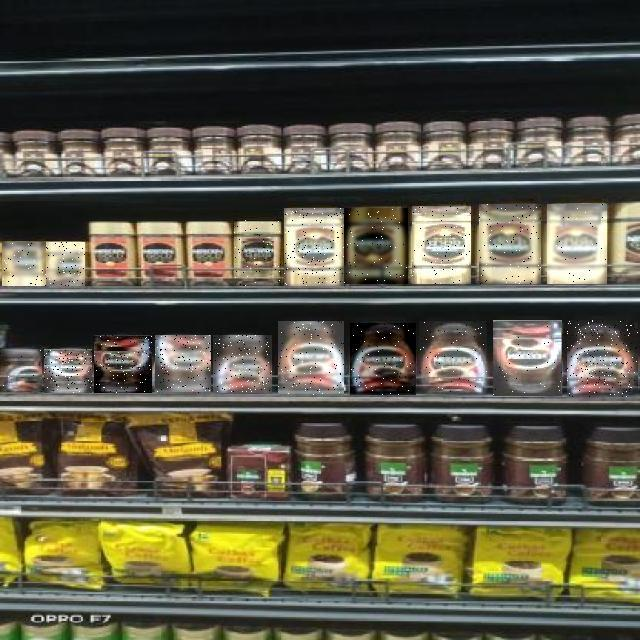Coffee: (567, 320, 638, 397), (493, 321, 562, 397), (419, 321, 487, 394), (479, 204, 541, 284), (278, 322, 344, 396), (344, 208, 408, 284), (547, 204, 607, 284), (350, 323, 416, 395), (284, 208, 344, 286), (412, 207, 471, 285), (213, 335, 272, 393), (94, 335, 152, 393), (155, 336, 211, 394), (233, 220, 282, 286), (45, 349, 93, 393), (2, 242, 46, 286), (0, 348, 42, 394), (46, 242, 85, 286)
